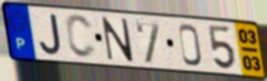0: (177, 22, 204, 67)
5: (206, 24, 237, 71)
7: (134, 18, 162, 66)
C: (64, 13, 98, 61)
J: (38, 12, 64, 57)
N: (100, 16, 135, 64)
